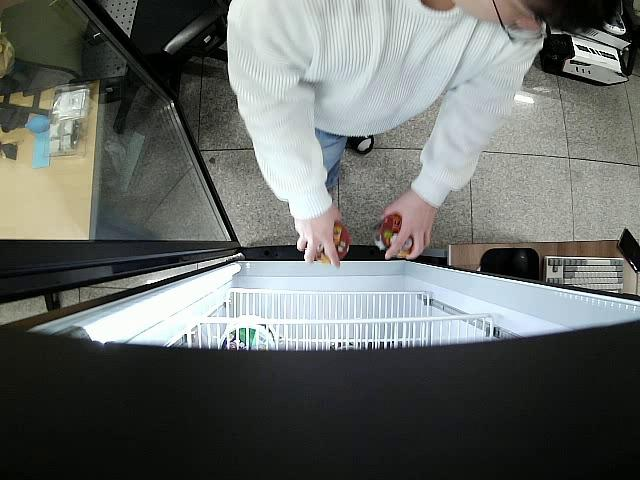00_hand: (381, 195, 437, 261), (294, 199, 343, 270)
06_nuguri_S: (374, 212, 418, 254), (314, 223, 352, 265)
